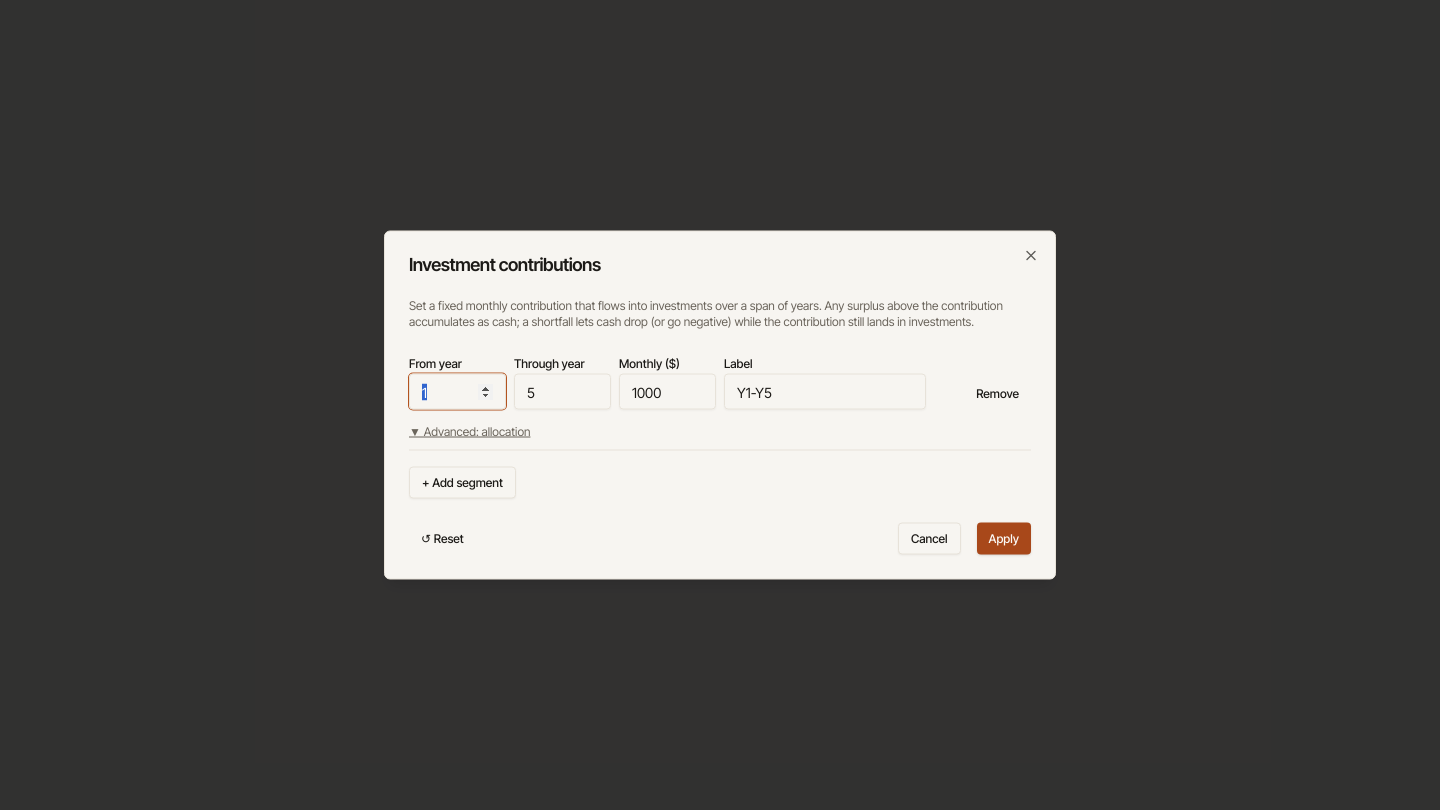
Test case: ContributionsPopover › Remove removes the row from the draft list
The image size is (1440, 810).
Expected: the number field labelled "From year" is shown, 409,374 -> 506,410
Click the button with aria-label "remove segment 1". click: point(998, 394)
box: 964,378 -> 1031,410
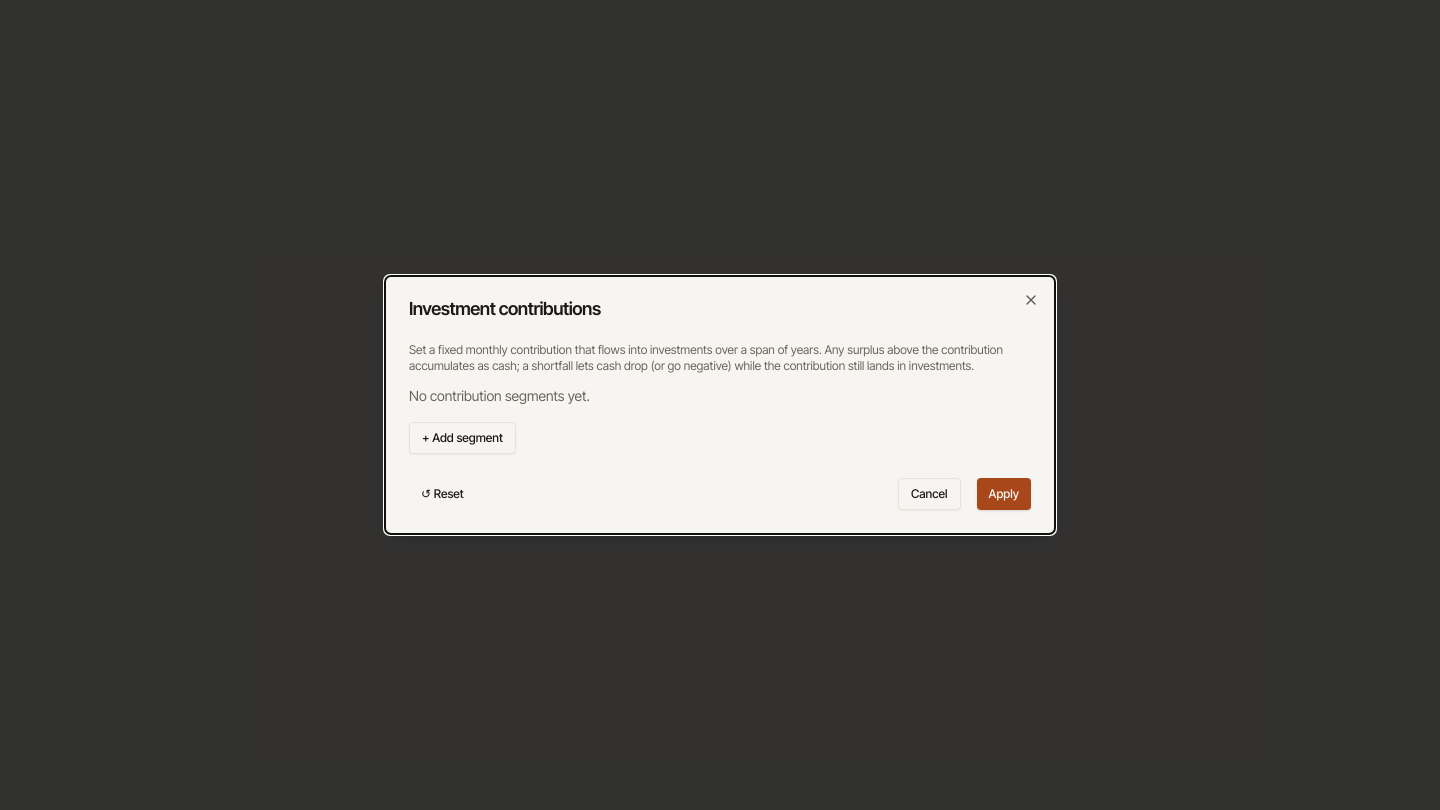
Expected: the label labelled "From year" is gone
Expected: the text "No contribution segments yet." is shown, 409,387 -> 590,404
